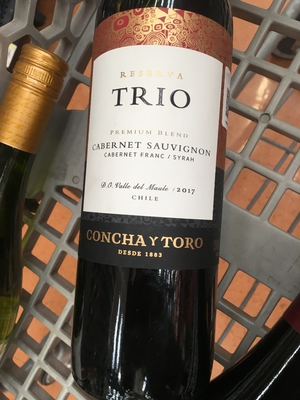trio cabernet sauvignon: (74, 8, 245, 371)
